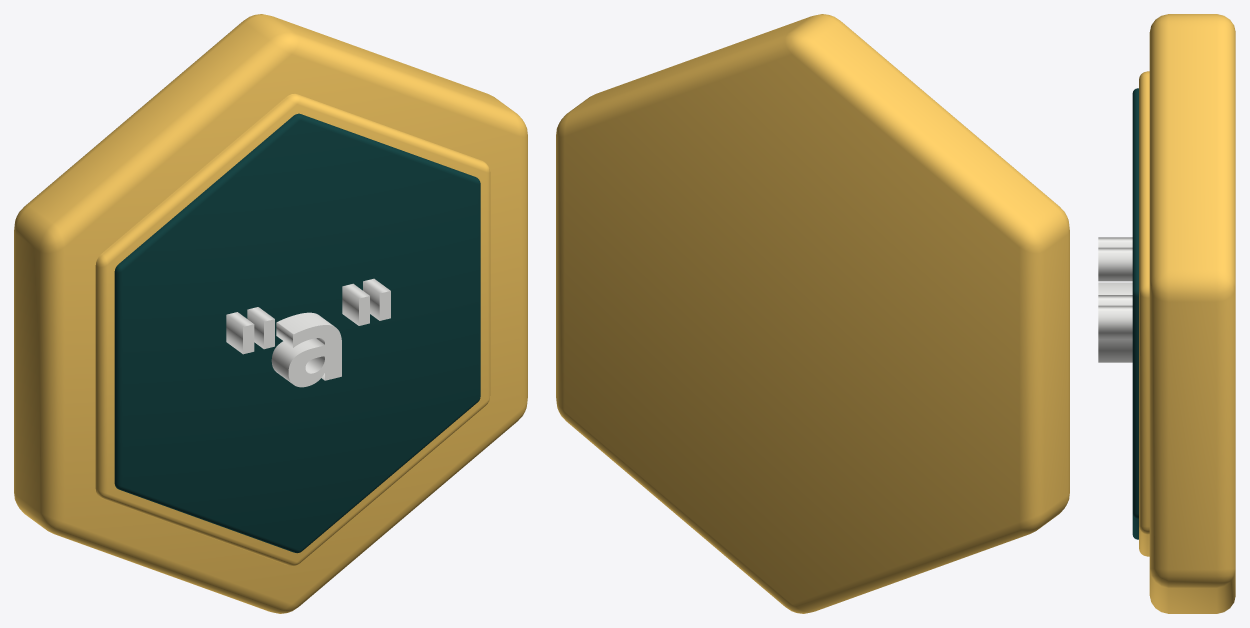
Rendered from sheet-4.glb.
3 renders of one model, left to right at view 1: azimuth 30°, elevation 25°; view 2: azimuth 150°, elevation 25°; view 3: azimuth 270°, elevation 25°, orthographic. The views are drawn at different scales.
Visible parts, largest first — view 1: panel, frame, ring, Text; view 2: frame; view 3: frame, ring, Text, panel.
Boxes of the visible parts, x1,y1,x2,y2 form: panel: [114, 113, 480, 553]; frame: [14, 14, 527, 613]; ring: [95, 94, 490, 566]; Text: [226, 278, 390, 387]; frame: [556, 14, 1069, 613]; frame: [1149, 14, 1235, 613]; ring: [1139, 71, 1149, 556]; Text: [1098, 237, 1132, 362]; panel: [1132, 88, 1138, 539].
Bounding box in the file's own units: 1.07 × 1.22 × 0.256.
